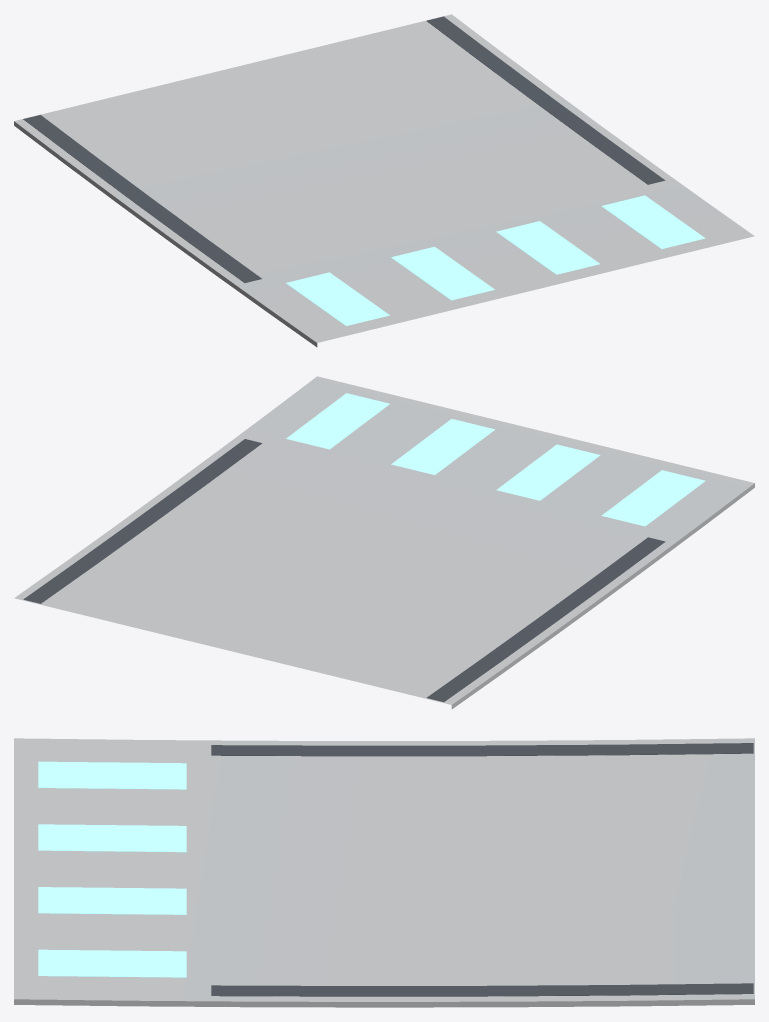
File: ext_road_curved_R185_04.glb
3 views of the same model, one above another, from view 1: azimuth 30°, elevation 25°; view 2: azimuth 150°, elevation 25°; view 3: azimuth 270°, elevation 25° (orthographic). The views are drawn at different scales.
Visible parts, largest first — view 1: Road, Crossing_Bands, Edge_Bands; view 2: Road, Crossing_Bands, Edge_Bands; view 3: Road, Crossing_Bands, Edge_Bands.
Part boxes in pixels (left/top/right/bottom): Road: left=14, top=14, right=754, bottom=347; Crossing_Bands: left=286, top=195, right=705, bottom=325; Edge_Bands: left=23, top=16, right=665, bottom=282; Road: left=14, top=376, right=754, bottom=709; Crossing_Bands: left=286, top=393, right=705, bottom=526; Edge_Bands: left=23, top=439, right=665, bottom=702; Road: left=14, top=738, right=754, bottom=1007; Crossing_Bands: left=38, top=761, right=186, bottom=977; Edge_Bands: left=211, top=743, right=753, bottom=996.
Bounding box in the file's own units: 4.99 × 0.078 × 5.99.
